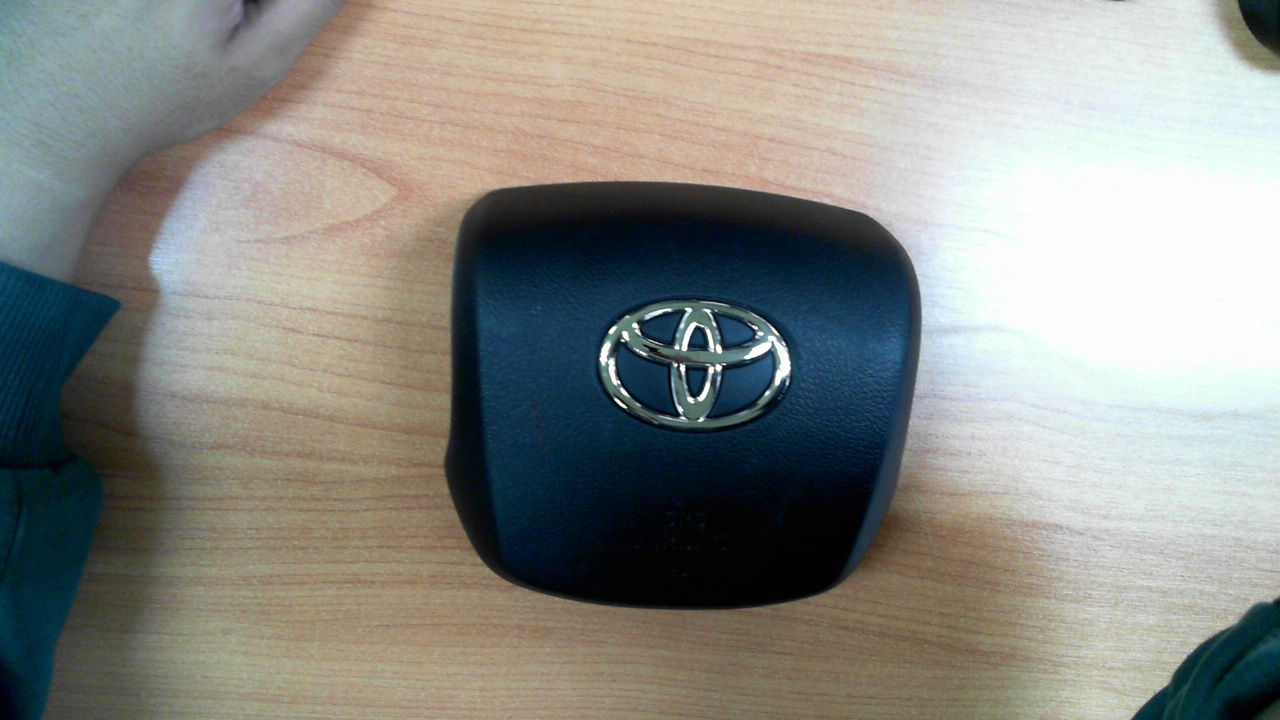Airbag: (443, 180, 924, 612)
Toyota: (598, 299, 792, 428)
